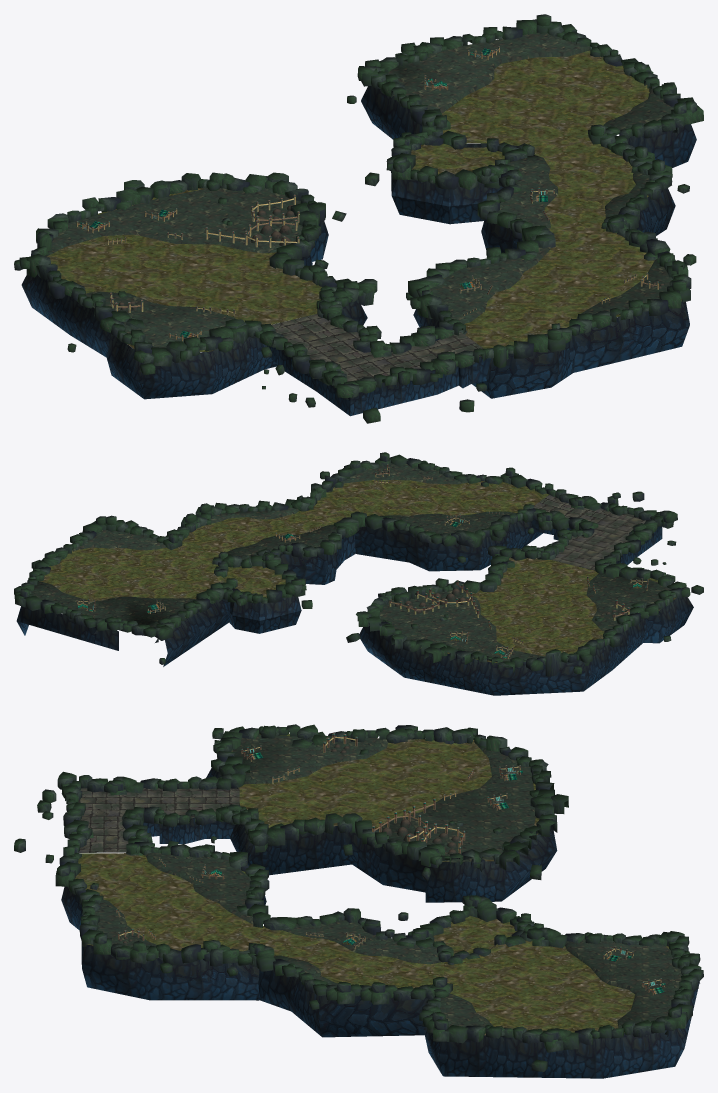
File: thebot_door_03.FBX
3 views of the same model, one above another, from view 1: azimuth 30°, elevation 25°; view 2: azimuth 150°, elevation 25°; view 3: azimuth 270°, elevation 25° (orthographic). The views are drawn at different scales.
Parts seen in each view (by area): view 1: shitou01, dimian1, yanbi, dimian2, qiao, huawen; view 2: shitou01, dimian1, yanbi, dimian2, qiao, huawen; view 3: shitou01, dimian1, yanbi, dimian2, qiao, huawen.
Part boxes in pixels (box(x1,y1,x2,y2)): shitou01: box(14, 14, 703, 423); dimian1: box(47, 50, 681, 351); yanbi: box(21, 86, 696, 416); dimian2: box(44, 32, 673, 353); qiao: box(272, 313, 483, 382); huawen: box(76, 46, 658, 341); shitou01: box(14, 452, 703, 676); dimian1: box(39, 480, 676, 662); yanbi: box(16, 495, 693, 695); dimian2: box(31, 463, 671, 661); qiao: box(534, 495, 645, 569); huawen: box(77, 464, 648, 659); shitou01: box(14, 724, 703, 1071); dimian1: box(75, 733, 668, 1035); yanbi: box(61, 738, 699, 1078); dimian2: box(93, 735, 682, 1028); qiao: box(78, 788, 239, 852); huawen: box(116, 733, 665, 995).
Bounding box in the file's own units: 2498 × 2184 × 209.
